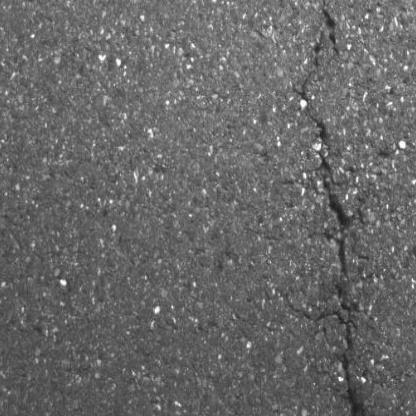Cracks: (264, 0, 362, 416)
